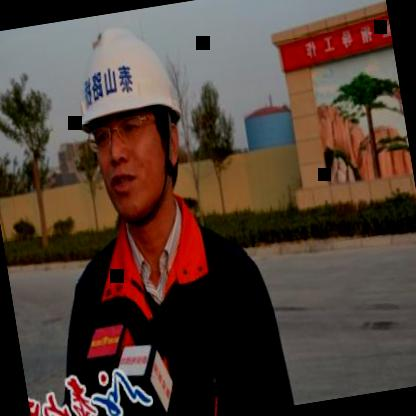helmet: (48, 2, 215, 243)
